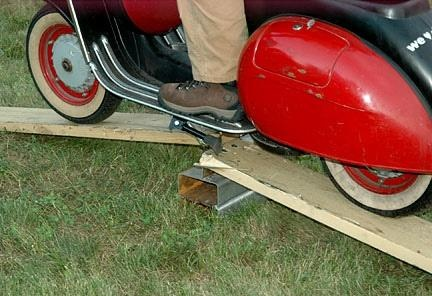motorbike: (25, 1, 432, 218)
